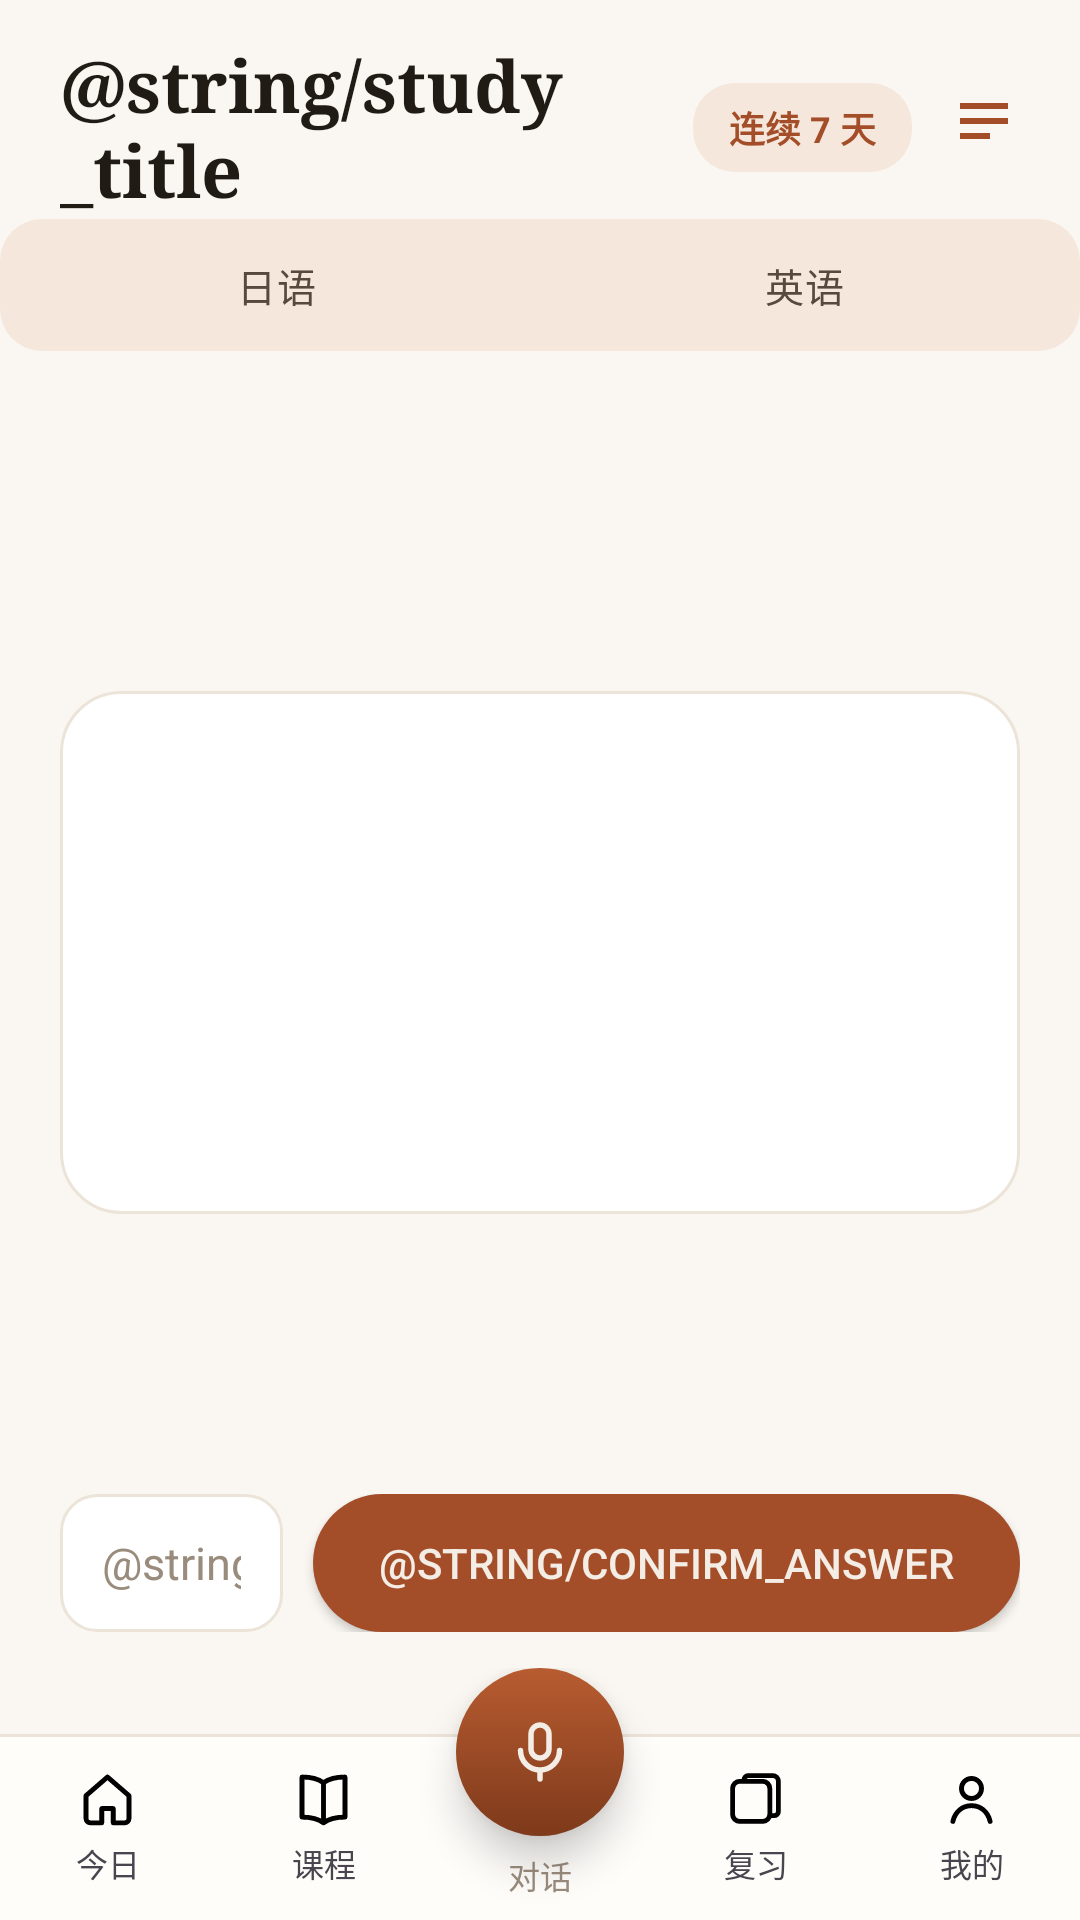

Where icons sit on this 1080w x 1920h app screen, as (x1, y1, x2, y2):
mic: (504, 1722, 576, 1788)
